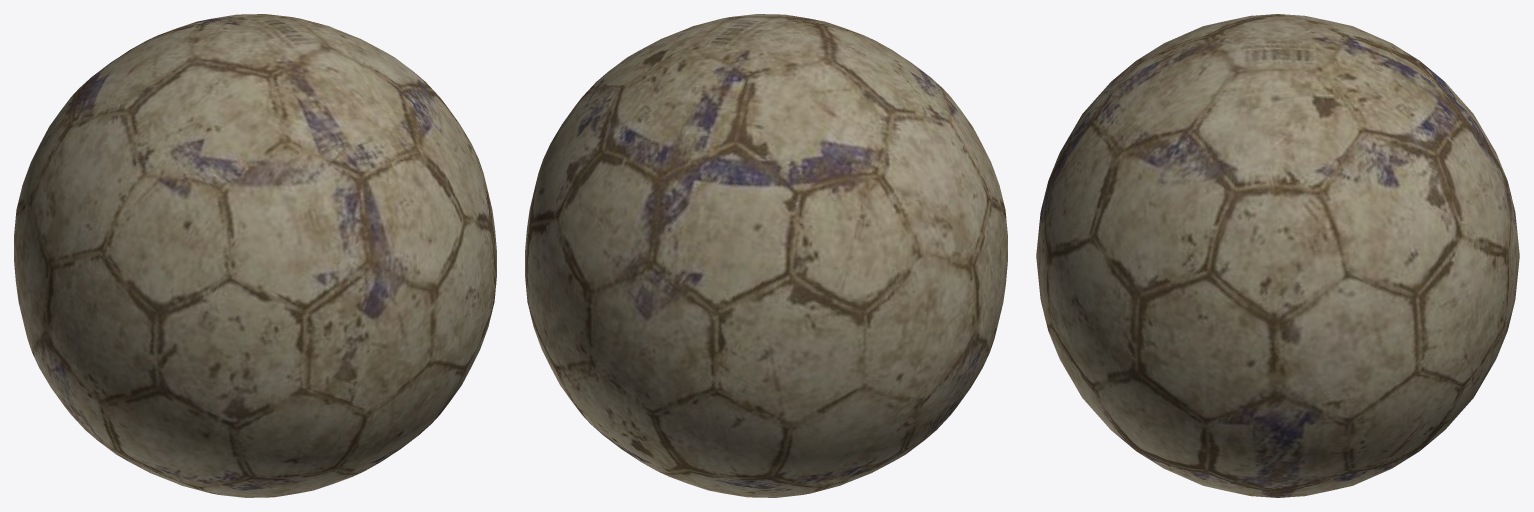
File: football.glb
3 renders of one model, left to right at view 1: azimuth 30°, elevation 25°; view 2: azimuth 150°, elevation 25°; view 3: azimuth 270°, elevation 25°, orthographic.
Parts seen in each view (by area): view 1: football_inflated; view 2: football_inflated; view 3: football_inflated.
Boxes of the visible parts, x1=… form: football_inflated: x1=14, y1=14, x2=496, y2=497; football_inflated: x1=525, y1=14, x2=1007, y2=497; football_inflated: x1=1036, y1=14, x2=1519, y2=497.
Bounding box in the file's own units: 0.2203 × 0.2219 × 0.2206.
1 material, 1 textured.
